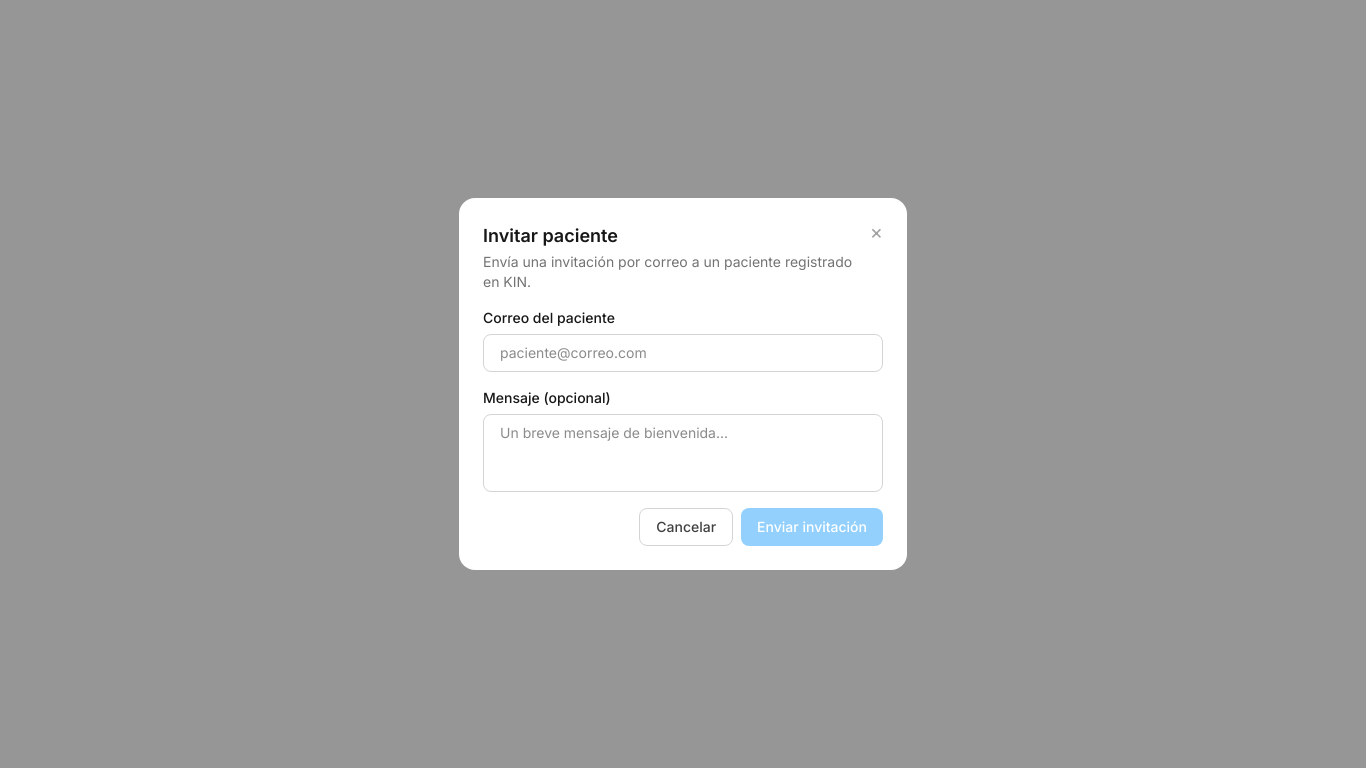
Scenario: InvitePatientModal › 404: muestra que el correo no está registrado en KIN
This screenshot has width=1366, height=768.
Type "x@kin.com" into the field labelled "Correo del paciente" at x=683, y=353, box [483,334,883,372]
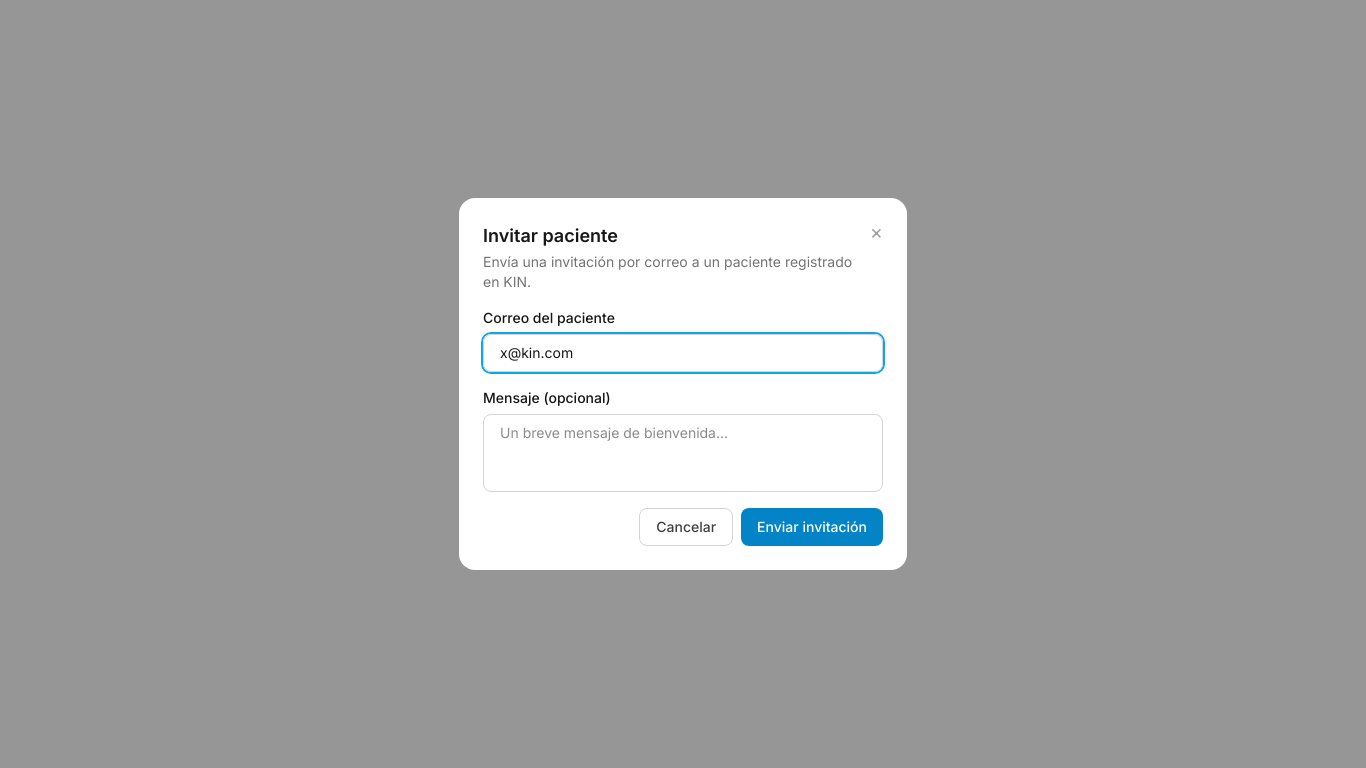
Click the button "Enviar invitación" at x=812, y=527, box [741,508,883,546]
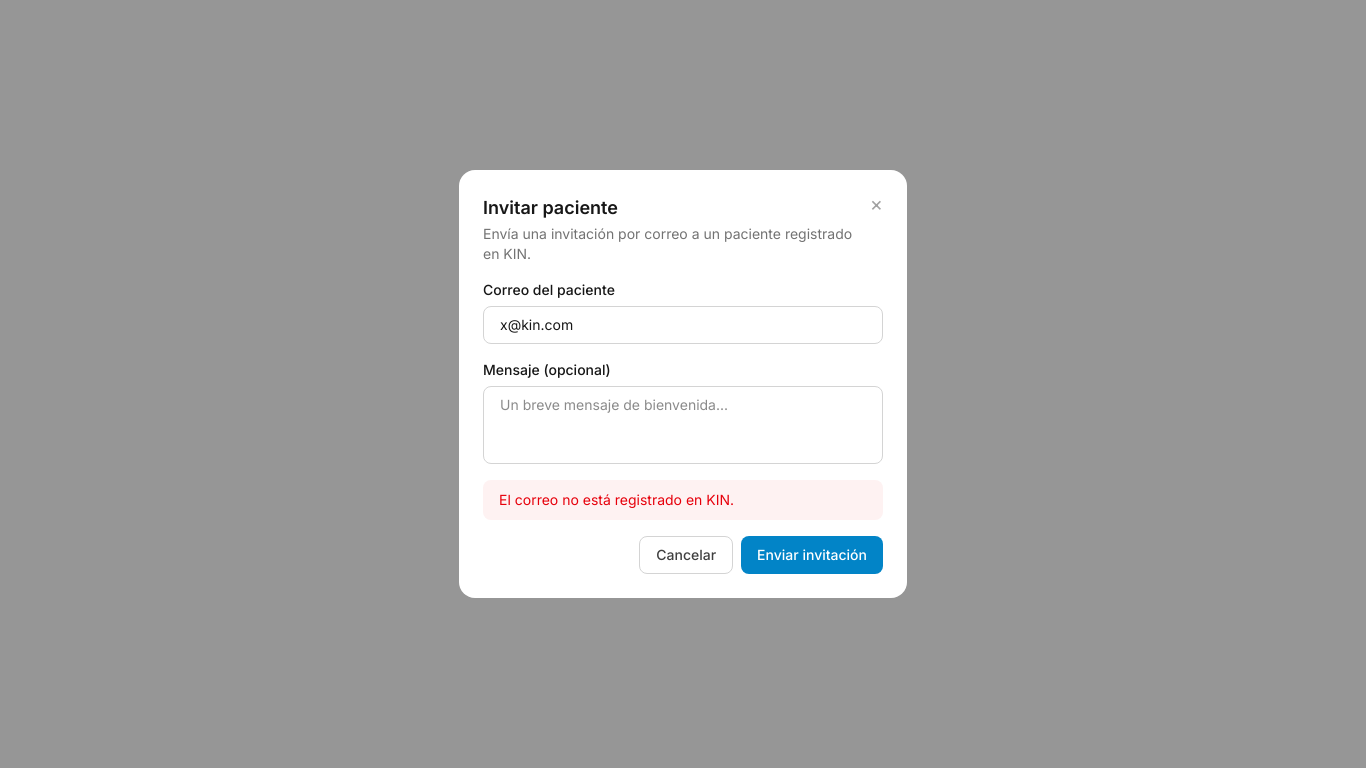
Expected: the text "El correo no está registrado en KIN." is shown, [483,480,883,520]
